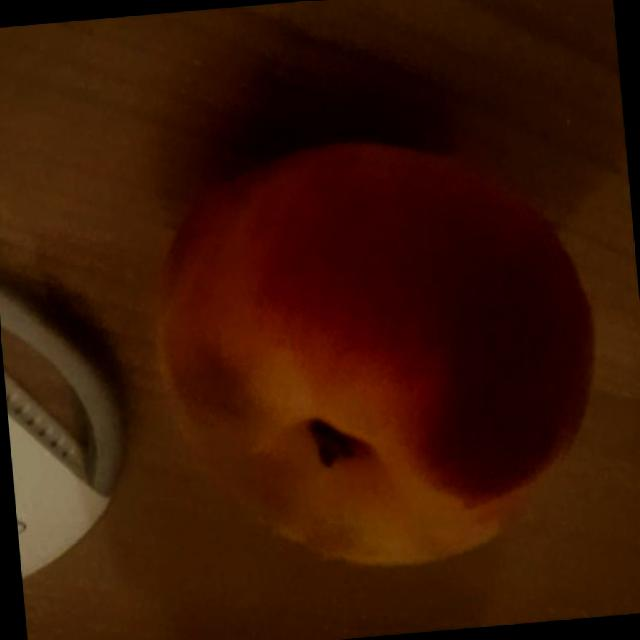Peach: (115, 97, 624, 614)
